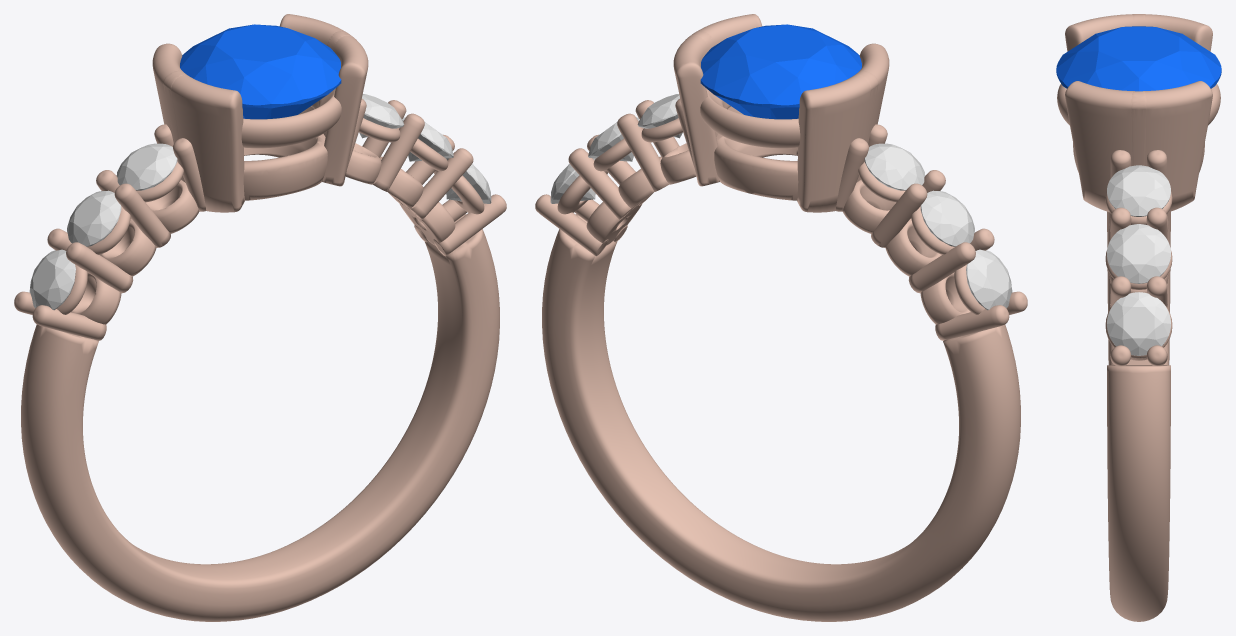
File: bluesapphire-round-rosegold-halfmoonbezel-straightband-3stone.glb
3 renders of one model, left to right at view 1: azimuth 30°, elevation 25°; view 2: azimuth 150°, elevation 25°; view 3: azimuth 270°, elevation 25°, orthographic. The views are drawn at different scales.
Parts seen in each view (by area): view 1: metal, stone, side.004, side.005, side.003, side, side.001, side.002; view 2: metal, stone, side.004, side.005, side.003, side, side.001, side.002; view 3: metal, stone, side.002, side.001, side.
Boxes of the visible parts, x1=… form: metal: x1=14, y1=14, x2=506, y2=621; stone: x1=180, y1=24, x2=341, y2=119; side.004: x1=67, y1=190, x2=121, y2=246; side.005: x1=29, y1=249, x2=75, y2=310; side.003: x1=116, y1=143, x2=177, y2=190; side: x1=359, y1=94, x2=404, y2=138; side.001: x1=402, y1=117, x2=453, y2=161; side.002: x1=446, y1=158, x2=491, y2=203; metal: x1=535, y1=14, x2=1027, y2=621; stone: x1=700, y1=24, x2=861, y2=119; side.004: x1=920, y1=190, x2=974, y2=246; side.005: x1=966, y1=249, x2=1012, y2=310; side.003: x1=864, y1=143, x2=925, y2=190; side: x1=637, y1=94, x2=682, y2=138; side.001: x1=588, y1=117, x2=639, y2=161; side.002: x1=550, y1=158, x2=595, y2=203; metal: x1=1057, y1=14, x2=1220, y2=621; stone: x1=1056, y1=26, x2=1221, y2=91; side.002: x1=1107, y1=292, x2=1170, y2=355; side.001: x1=1107, y1=224, x2=1170, y2=283; side: x1=1107, y1=165, x2=1170, y2=216.
Size of the model in its own units: 20.58 by 23.81 by 6.44.
